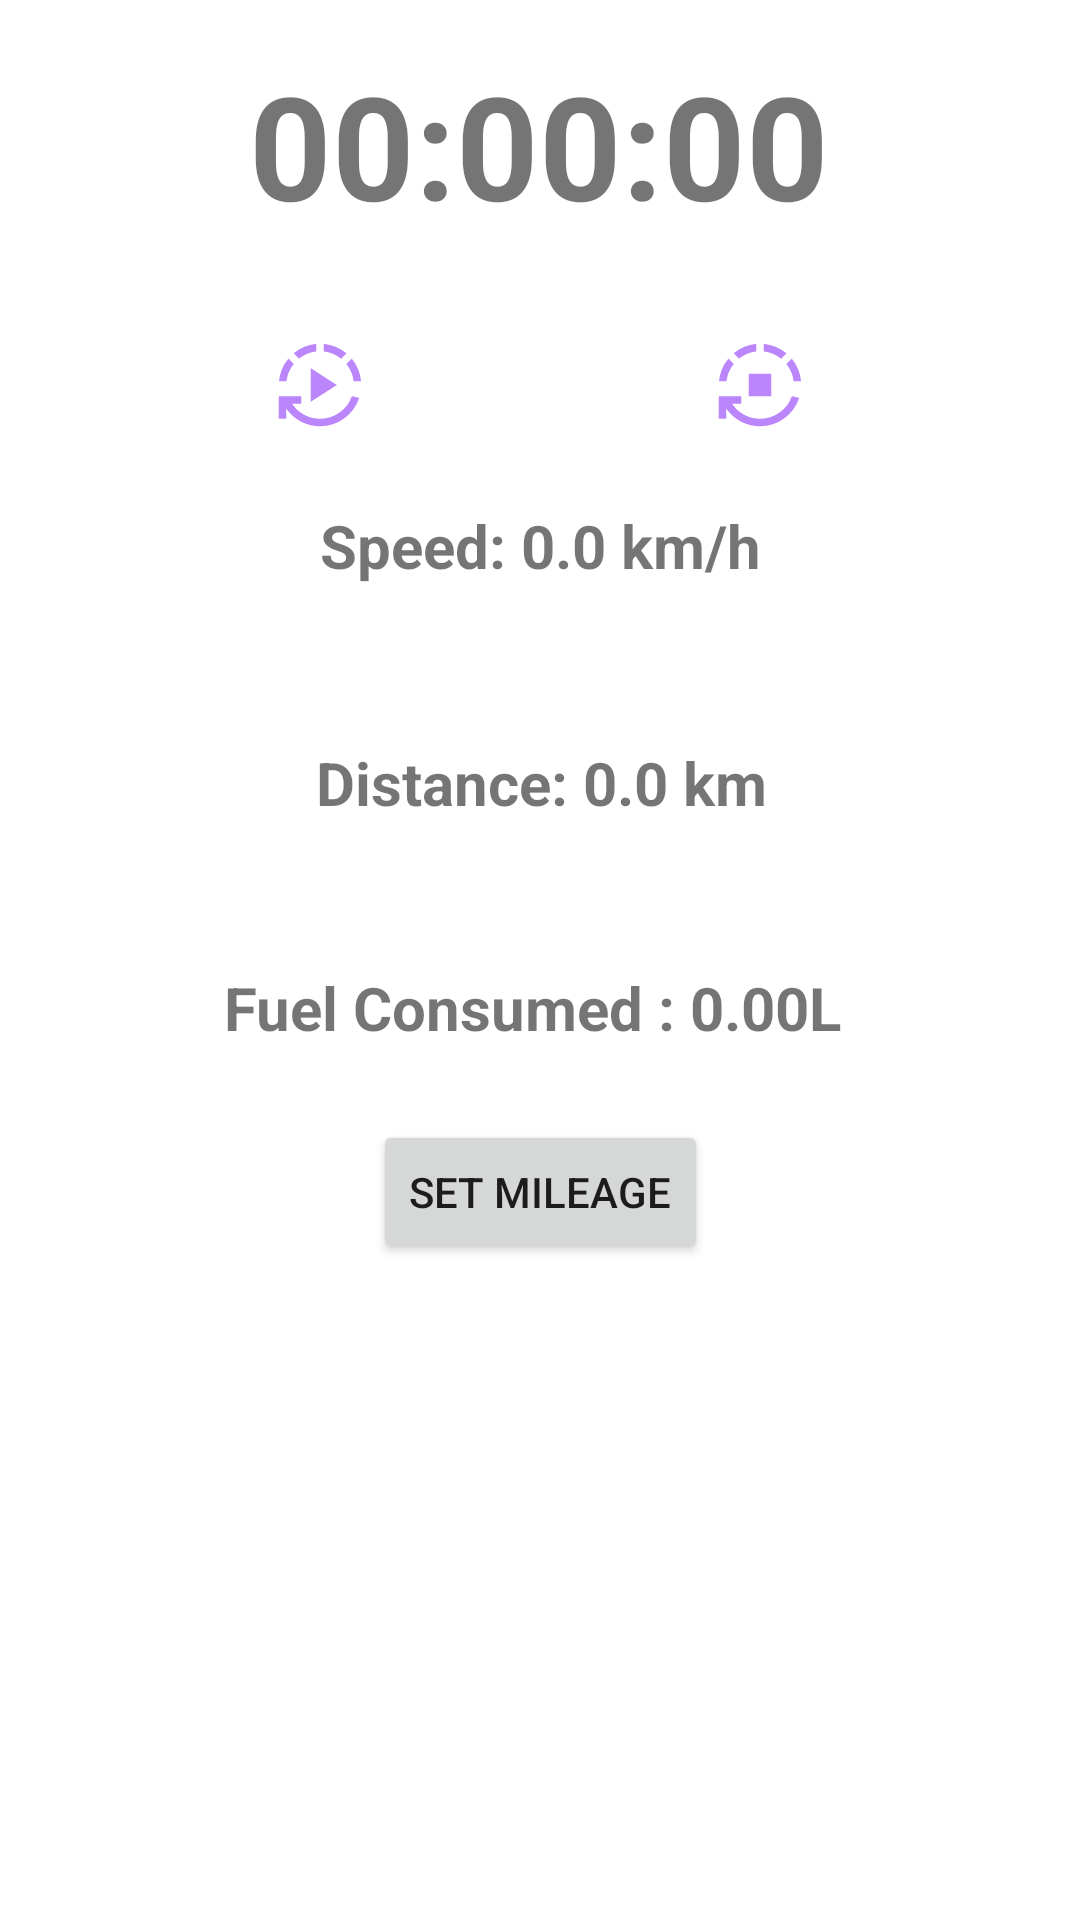

Screen size 1080x1920. Icon name, then its box in pixels as (x1, y1, x2, y2):
Play or Pause Timer: (278, 344, 361, 427)
